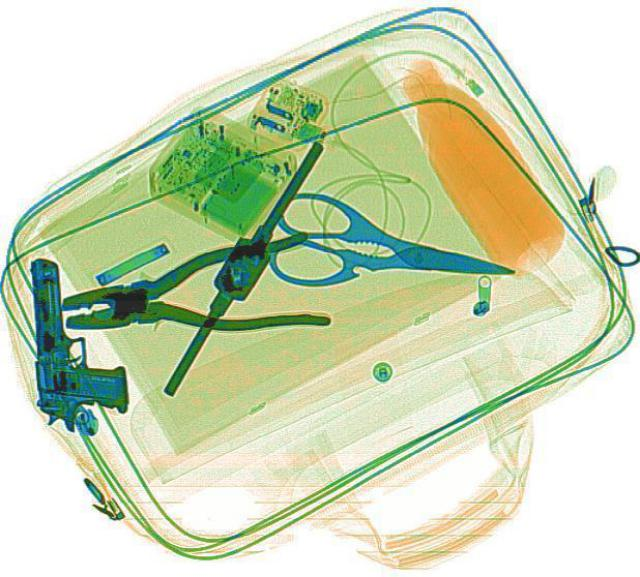Gun: (29, 256, 126, 431)
Pliers: (51, 231, 329, 358)
Scissors: (258, 186, 526, 317)
